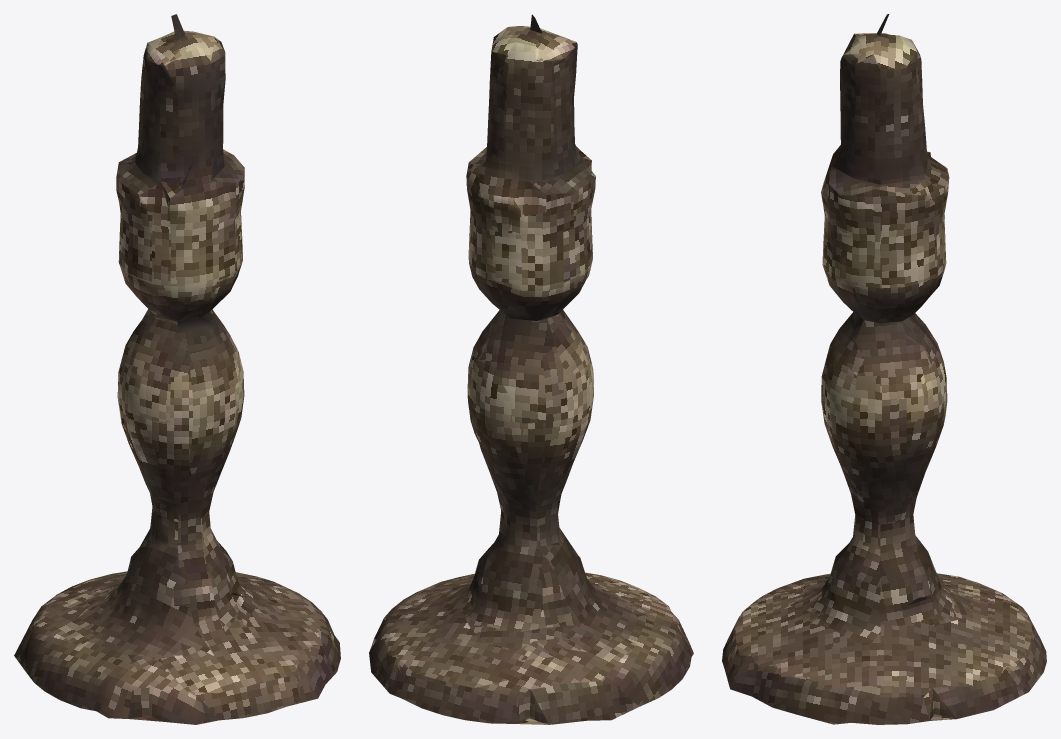
The model's file is b_candlestick.glb.
3 views of the same model, side by side, from view 1: azimuth 30°, elevation 25°; view 2: azimuth 150°, elevation 25°; view 3: azimuth 270°, elevation 25° (orthographic).
Visible parts, largest first — view 1: body; view 2: body; view 3: body.
Boxes of the visible parts, x1,y1,x2,y2 form: body: [14, 14, 340, 724]; body: [369, 14, 693, 724]; body: [722, 14, 1046, 724].
Size of the model in its own units: 0.0989 by 0.2197 by 0.1004.
1 material, 1 textured.
